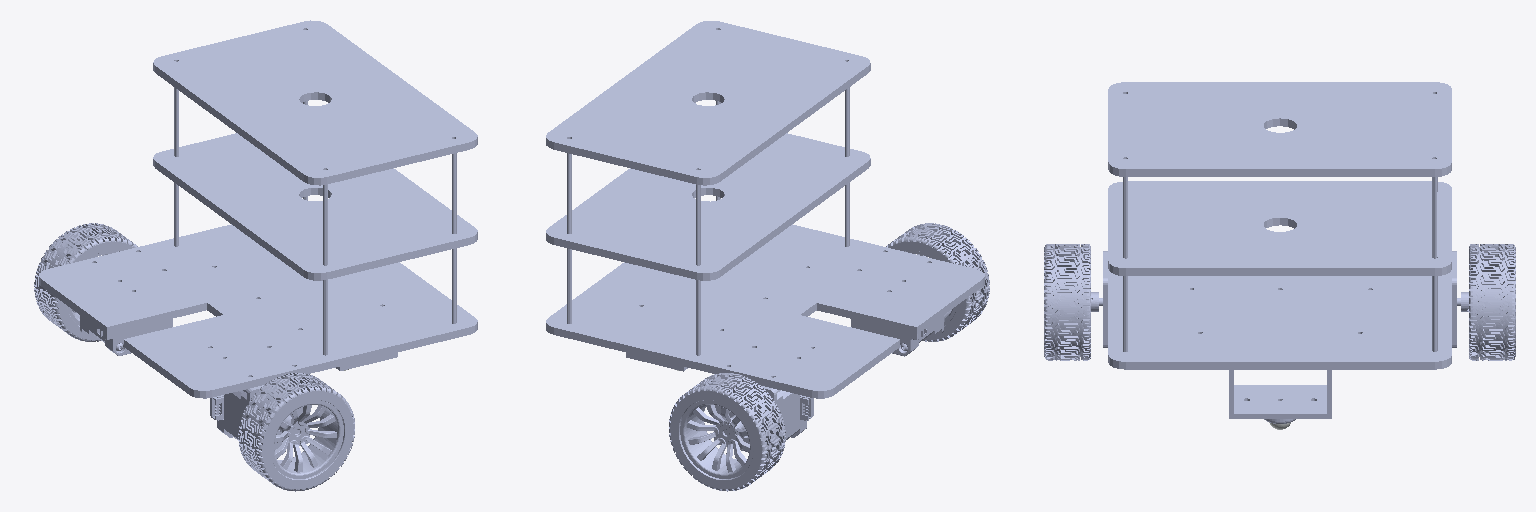
The robot description file, URDF, robot "URDF_PBL4":
<?xml version="1.0" encoding="utf-8"?>
<!-- This URDF was automatically created by SolidWorks to URDF Exporter! Originally created by [author] ([email redacted]) 
     Commit Version: 1.6.0-4-g7f85cfe  Build Version: 1.6.7995.38578
     For more information, please see http://wiki.ros.org/sw_urdf_exporter -->
<robot
  name="URDF_PBL4">
  <link
    name="basefoot_link">
    <inertial>
      <origin
        xyz="0.00896603363868428 0.000439468936754131 0.0886482200894458"
        rpy="0 0 0" />
      <mass
        value="0.598805785894526" />
      <inertia
        ixx="0.00151492277035313"
        ixy="-1.1392090890363E-08"
        ixz="-2.42194818987648E-17"
        iyy="0.000964526793806794"
        iyz="-1.28922871854692E-15"
        izz="0.00242046398894691" />
    </inertial>
    <visual>
      <origin
        xyz="0 0 0"
        rpy="0 0 0" />
      <geometry>
        <mesh
          filename="package://URDF_PBL4/meshes/basefoot_link.STL" />
      </geometry>
      <material
        name="">
        <color
          rgba="0.792156862745098 0.819607843137255 0.933333333333333 1" />
      </material>
    </visual>
    <collision>
      <origin
        xyz="0 0 0"
        rpy="0 0 0" />
      <geometry>
        <mesh
          filename="package://URDF_PBL4/meshes/basefoot_link.STL" />
      </geometry>
    </collision>
  </link>
  <link
    name="base_link">
    <inertial>
      <origin
        xyz="0.00880665995811239 -7.31085218336203E-08 0.0268949487496748"
        rpy="0 0 0" />
      <mass
        value="0.600596066548402" />
      <inertia
        ixx="0.00151495778238491"
        ixy="-1.13920908900276E-08"
        ixz="-2.42195881795455E-17"
        iyy="0.000964589527483503"
        iyz="-1.28922953522354E-15"
        izz="0.00242049900097869" />
    </inertial>
    <visual>
      <origin
        xyz="0 0 0"
        rpy="0 0 0" />
      <geometry>
        <mesh
          filename="package://URDF_PBL4/meshes/base_link.STL" />
      </geometry>
      <material
        name="">
        <color
          rgba="0.792156862745098 0.819607843137255 0.933333333333333 1" />
      </material>
    </visual>
    <collision>
      <origin
        xyz="0 0 0"
        rpy="0 0 0" />
      <geometry>
        <mesh
          filename="package://URDF_PBL4/meshes/base_link.STL" />
      </geometry>
    </collision>
  </link>
  <joint
    name="base_joint"
    type="fixed">
    <origin
      xyz="0 0.000439542263851761 0.0615861593182222"
      rpy="0 0 0" />
    <parent
      link="basefoot_link" />
    <child
      link="base_link" />
    <axis
      xyz="0 0 0" />
  </joint>
  <link
    name="whell_left">
    <inertial>
      <origin
        xyz="1.84279314030533E-10 -7.88503956572484E-10 -0.0015399077510947"
        rpy="0 0 0" />
      <mass
        value="0.0351748276981318" />
      <inertia
        ixx="1.52372847532062E-05"
        ixy="4.72755323784425E-10"
        ixz="1.08335311183762E-14"
        iyy="1.52369777721676E-05"
        iyz="-7.95982431964832E-14"
        izz="2.57858861550241E-05" />
    </inertial>
    <visual>
      <origin
        xyz="0 0 0"
        rpy="0 0 0" />
      <geometry>
        <mesh
          filename="package://URDF_PBL4/meshes/whell_left.STL" />
      </geometry>
      <material
        name="">
        <color
          rgba="0.792156862745098 0.819607843137255 0.933333333333333 1" />
      </material>
    </visual>
    <collision>
      <origin
        xyz="0 0 0"
        rpy="0 0 0" />
      <geometry>
        <mesh
          filename="package://URDF_PBL4/meshes/whell_left.STL" />
      </geometry>
    </collision>
  </link>
  <joint
    name="whell_left_joint"
    type="continuous">
    <origin
      xyz="-0.0445000000003502 0.124882808214802 -0.0290000000001111"
      rpy="-1.5707963267949 0 0" />
    <parent
      link="base_link" />
    <child
      link="whell_left" />
    <axis
      xyz="0 0 -1" />
  </joint>
  <link
    name="whell_right">
    <inertial>
      <origin
        xyz="-1.85674975394789E-10 -7.88357282233143E-10 0.00153990775115259"
        rpy="0 0 0" />
      <mass
        value="0.035174827698132" />
      <inertia
        ixx="1.5237284753206E-05"
        ixy="-4.72755323420814E-10"
        ixz="1.10897939258506E-14"
        iyy="1.52369777721678E-05"
        iyz="7.95985758325432E-14"
        izz="2.57858861550241E-05" />
    </inertial>
    <visual>
      <origin
        xyz="0 0 0"
        rpy="0 0 0" />
      <geometry>
        <mesh
          filename="package://URDF_PBL4/meshes/whell_right.STL" />
      </geometry>
      <material
        name="">
        <color
          rgba="0.792156862745098 0.819607843137255 0.933333333333333 1" />
      </material>
    </visual>
    <collision>
      <origin
        xyz="0 0 0"
        rpy="0 0 0" />
      <geometry>
        <mesh
          filename="package://URDF_PBL4/meshes/whell_right.STL" />
      </geometry>
    </collision>
  </link>
  <joint
    name="whell_right_joint"
    type="continuous">
    <origin
      xyz="-0.044499999998961 -0.125186859734608 -0.0289999999999652"
      rpy="-1.5707963267949 0 0" />
    <parent
      link="base_link" />
    <child
      link="whell_right" />
    <axis
      xyz="0 0 -1" />
  </joint>
  <link
    name="caster">
    <inertial>
      <origin
        xyz="1.95084267663598E-05 0.000439542263851692 0.00698615931822151"
        rpy="0 0 0" />
      <mass
        value="0.00143675504024173" />
      <inertia
        ixx="2.8160398788738E-08"
        ixy="-1.41363874215605E-24"
        ixz="8.07793566946315E-25"
        iyy="2.8160398788738E-08"
        iyz="3.02922587604867E-25"
        izz="2.8160398788738E-08" />
    </inertial>
    <visual>
      <origin
        xyz="0 0 0"
        rpy="0 0 0" />
      <geometry>
        <mesh
          filename="package://URDF_PBL4/meshes/caster.STL" />
      </geometry>
      <material
        name="">
        <color
          rgba="0.898039215686275 0.92156862745098 0.929411764705882 1" />
      </material>
    </visual>
    <collision>
      <origin
        xyz="0 0 0"
        rpy="0 0 0" />
      <geometry>
        <mesh
          filename="package://URDF_PBL4/meshes/caster.STL" />
      </geometry>
    </collision>
  </link>
  <joint
    name="caster_joint"
    type="continuous">
    <origin
      xyz="0.0599804915732332 -0.000439542263851719 -0.0615861593182222"
      rpy="0 0 0" />
    <parent
      link="base_link" />
    <child
      link="caster" />
    <axis
      xyz="0 0 1" />
  </joint>
  <link
    name="lidar">
    <inertial>
      <origin
        xyz="0.0120602389273986 -0.00053208991086634 -0.0287648851211533"
        rpy="0 0 0" />
      <mass
        value="0.0730845796011579" />
      <inertia
        ixx="1.9580879016053E-05"
        ixy="-1.03933953886373E-07"
        ixz="-4.28391068677778E-07"
        iyy="2.41250110052066E-05"
        iyz="9.42657407989281E-09"
        izz="4.14184576558715E-05" />
    </inertial>
    <visual>
      <origin
        xyz="0 0 0"
        rpy="0 0 0" />
      <geometry>
        <mesh
          filename="package://URDF_PBL4/meshes/lidar.STL" />
      </geometry>
      <material
        name="">
        <color
          rgba="0.752941176470588 0.752941176470588 0.752941176470588 1" />
      </material>
    </visual>
    <collision>
      <origin
        xyz="0 0 0"
        rpy="0 0 0" />
      <geometry>
        <mesh
          filename="package://URDF_PBL4/meshes/lidar.STL" />
      </geometry>
    </collision>
  </link>
  <joint
    name="lidar_joint"
    type="fixed">
    <origin
      xyz="0.0177951222632604 -0.000258417218932105 0.177153022960324"
      rpy="0 0 0" />
    <parent
      link="base_link" />
    <child
      link="lidar" />
    <axis
      xyz="0 0 0" />
  </joint>
</robot>

--- What the picture shows (computed from the rendered views, not written in the file) ---
Views: 3 orthographic renders of the robot side by side, from view 1: azimuth 30°, elevation 25°; view 2: azimuth 150°, elevation 25°; view 3: azimuth 270°, elevation 25°.
Robot: URDF_PBL4 — 6 links, 5 joints (3 continuous, 2 fixed); root link basefoot_link; default pose: every joint at zero.
Links seen in each view (by area): view 1: basefoot_link, base_link, whell_right, whell_left; view 2: basefoot_link, base_link, whell_left, whell_right; view 3: basefoot_link, whell_left, whell_right, base_link.
Boxes of the visible links, x1,y1,x2,y2 form: basefoot_link: [39, 20, 477, 446]; base_link: [39, 21, 472, 449]; whell_right: [238, 373, 354, 491]; whell_left: [34, 223, 137, 341]; basefoot_link: [546, 21, 984, 451]; base_link: [550, 30, 984, 442]; whell_left: [669, 373, 785, 491]; whell_right: [886, 223, 989, 341]; basefoot_link: [1091, 82, 1460, 423]; whell_left: [1461, 244, 1515, 360]; whell_right: [1044, 244, 1098, 360]; base_link: [1103, 87, 1459, 368].
Size in the robot's own frame: 0.2 by 0.2741 by 0.1867 metres.
Meshes: 6 distinct files referenced, 5 mesh visuals loaded (5 binary STL); not drawn: 1 (reference not matched to a file when rendering).